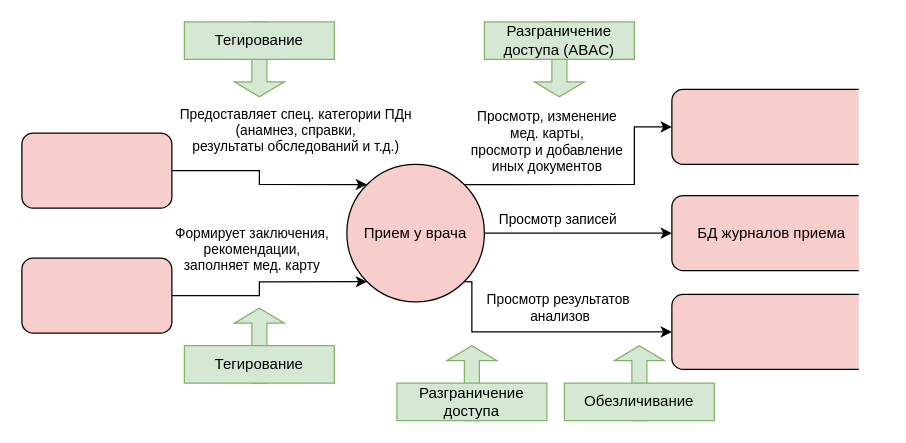
This 906x443 diagram has some shape labels left out. Here are the shapes that lost their labels. From the top down, the centre of each, then its label:
At [771,126]: "БД медицинских материалов пациентов".
At [96,170]: "Пациент".
At [96,295]: "Врач".
At [771,331]: "БД результатов анализа".
